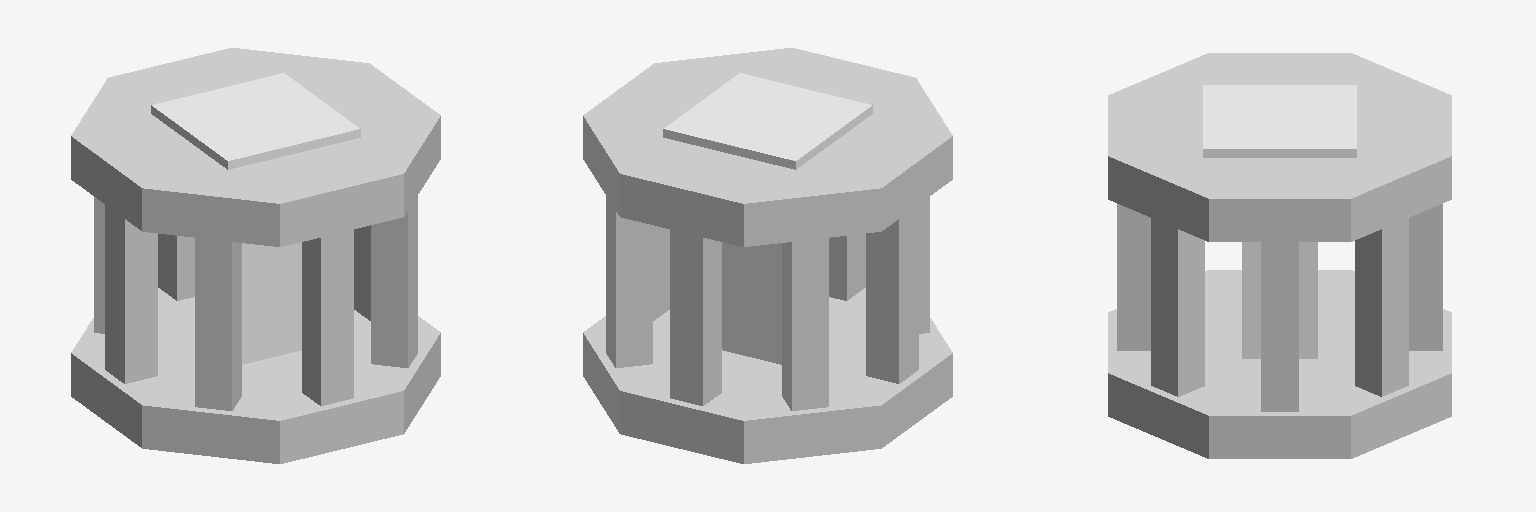
Rendered from cogwheel.obj.
3 views of the same model, side by side, from view 1: azimuth 30°, elevation 25°; view 2: azimuth 150°, elevation 25°; view 3: azimuth 270°, elevation 25° (orthographic).
Parts seen in each view (by area): view 1: cylinder.000, cylinder, shaft, Gear6, Gear7.000, Gear8.000, Gear7, Axis, Gear5, Gear8, Gear6.000; view 2: cylinder.000, cylinder, shaft, Gear5, Gear7.000, Gear6.000, Gear9, Axis, Gear6, Gear8, Gear8.000; view 3: cylinder.000, cylinder, shaft, Gear7, Gear9, Gear8, Gear5, Gear6, Axis.
Boxes of the visible parts, x1=… form: cylinder.000: x1=71, y1=48, x2=440, y2=246; cylinder: x1=71, y1=288, x2=440, y2=463; shaft: x1=151, y1=73, x2=360, y2=169; Gear6: x1=302, y1=230, x2=353, y2=405; Gear7.000: x1=105, y1=205, x2=157, y2=383; Gear8.000: x1=195, y1=238, x2=241, y2=410; Gear7: x1=371, y1=196, x2=417, y2=367; Axis: x1=242, y1=242, x2=301, y2=364; Gear5: x1=158, y1=234, x2=194, y2=300; Gear8: x1=354, y1=225, x2=370, y2=320; Gear6.000: x1=94, y1=197, x2=104, y2=333; cylinder.000: x1=583, y1=48, x2=952, y2=246; cylinder: x1=583, y1=288, x2=952, y2=463; shaft: x1=663, y1=73, x2=872, y2=169; Gear5: x1=670, y1=230, x2=721, y2=405; Gear7.000: x1=866, y1=205, x2=918, y2=383; Gear6.000: x1=782, y1=238, x2=828, y2=410; Gear9: x1=606, y1=196, x2=652, y2=367; Axis: x1=722, y1=242, x2=781, y2=364; Gear6: x1=829, y1=234, x2=865, y2=300; Gear8: x1=653, y1=225, x2=669, y2=320; Gear8.000: x1=919, y1=197, x2=929, y2=333; cylinder.000: x1=1108, y1=53, x2=1451, y2=241; cylinder: x1=1108, y1=270, x2=1451, y2=458; shaft: x1=1203, y1=85, x2=1356, y2=157; Gear7: x1=1151, y1=218, x2=1204, y2=396; Gear9: x1=1355, y1=218, x2=1408, y2=396; Gear8: x1=1261, y1=242, x2=1298, y2=411; Gear5: x1=1409, y1=204, x2=1442, y2=350; Gear6: x1=1117, y1=204, x2=1150, y2=350; Axis: x1=1242, y1=242, x2=1317, y2=358.
Bounding box in the file's own units: 1.12 × 1 × 1.12.